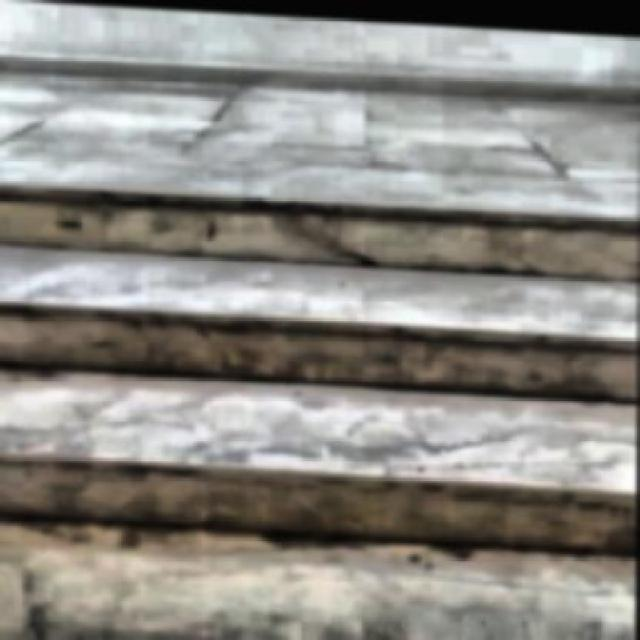stair: (0, 159, 638, 638)
